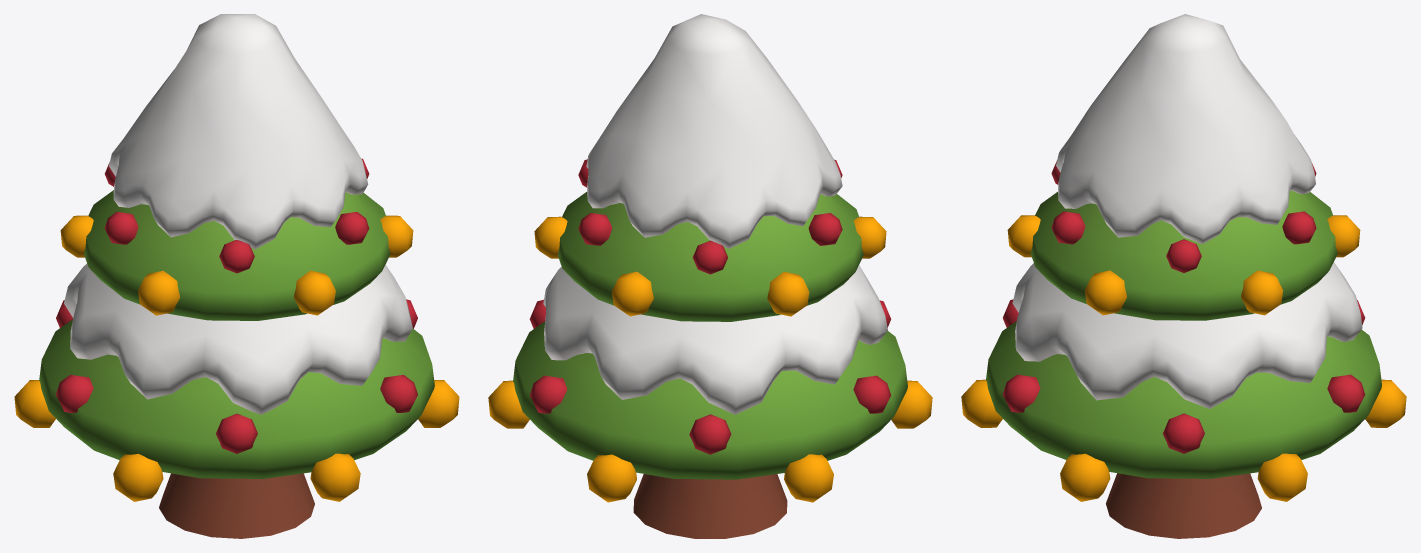
Rendered from Christmass_tree_outdoor_002.fbx.
3 views of the same model, side by side, from view 1: azimuth 30°, elevation 25°; view 2: azimuth 150°, elevation 25°; view 3: azimuth 270°, elevation 25° (orthographic).
Parts seen in each view (by area): view 1: Christmass_tree_outdoor_002, Christmass_tree_outdoor_002_toys; view 2: Christmass_tree_outdoor_002, Christmass_tree_outdoor_002_toys; view 3: Christmass_tree_outdoor_002, Christmass_tree_outdoor_002_toys.
Boxes of the visible parts, <box> form: Christmass_tree_outdoor_002: <box>39,14,434,538</box>; Christmass_tree_outdoor_002_toys: <box>14,158,459,501</box>; Christmass_tree_outdoor_002: <box>513,14,907,538</box>; Christmass_tree_outdoor_002_toys: <box>488,159,932,502</box>; Christmass_tree_outdoor_002: <box>986,14,1381,538</box>; Christmass_tree_outdoor_002_toys: <box>961,161,1406,501</box>.
Size of the model in its own units: 1.88 by 2.45 by 2.03.
